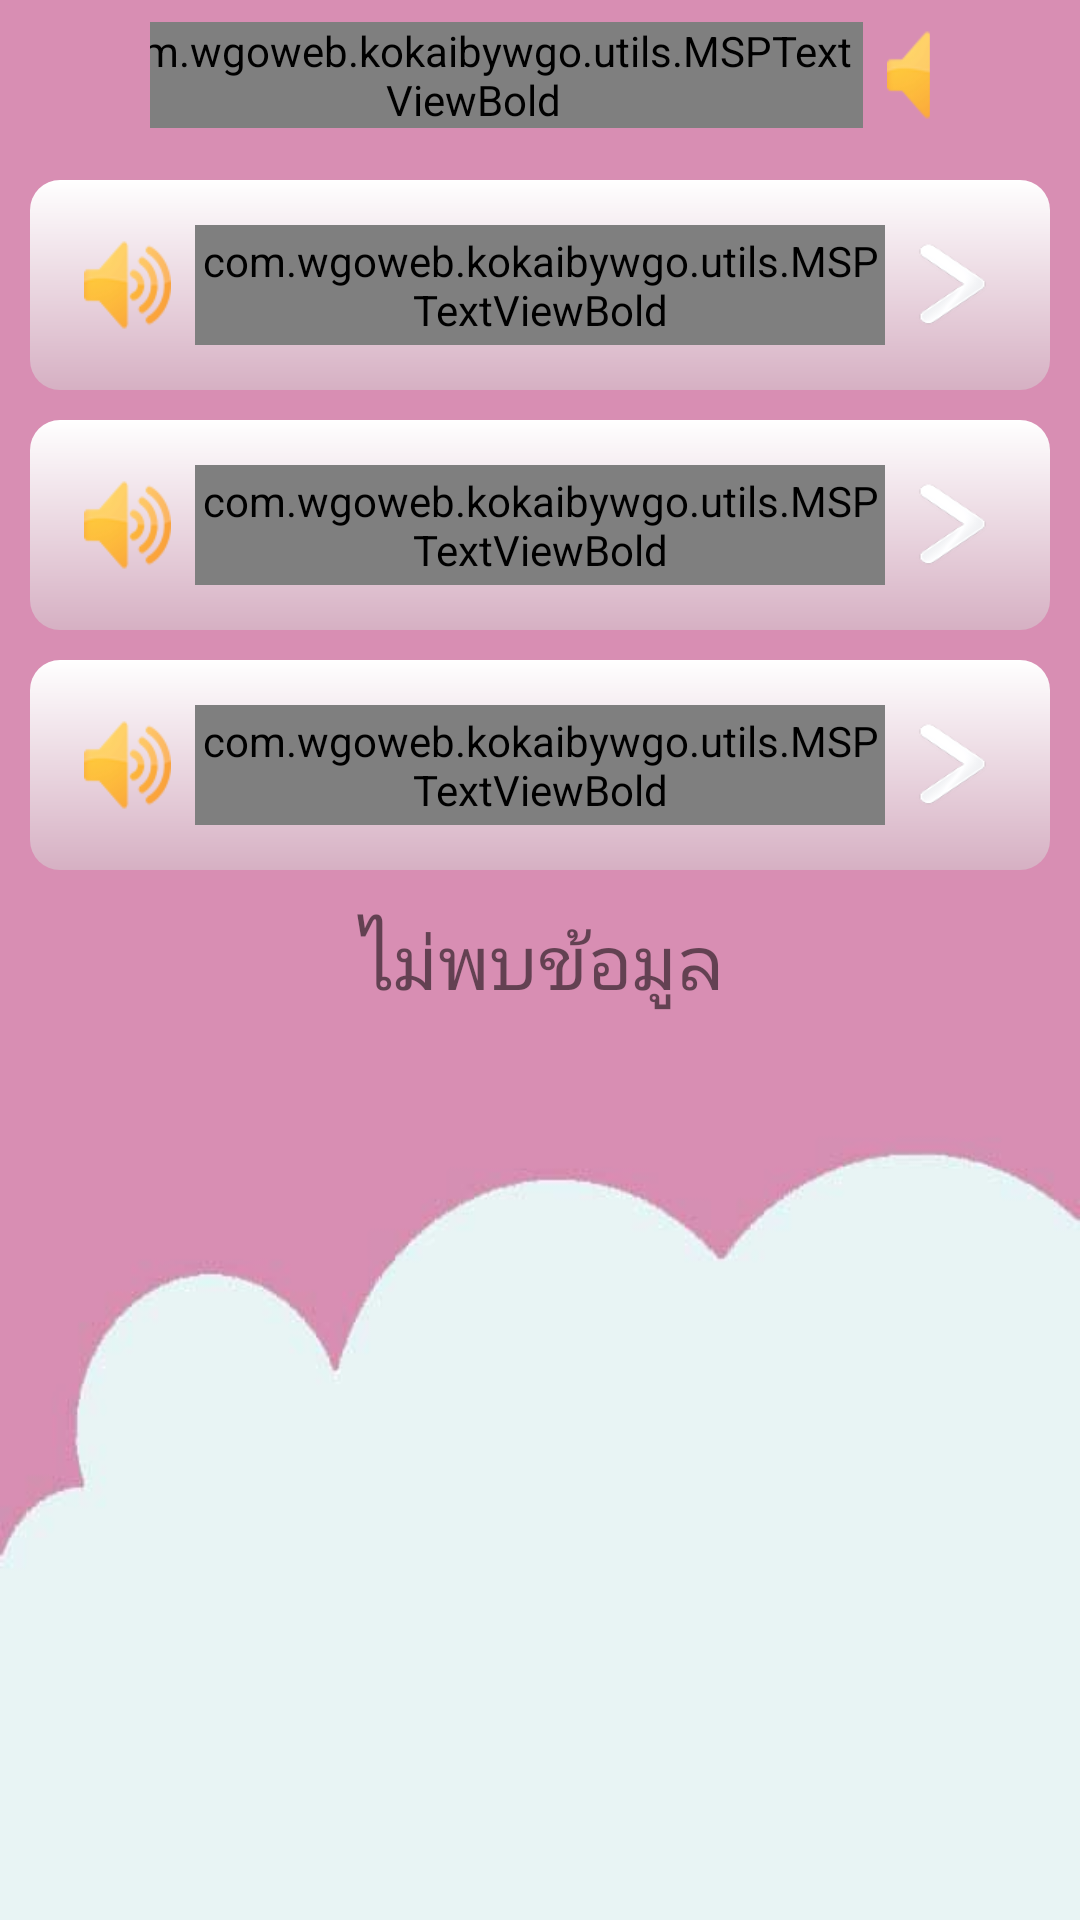

Named icons in this screenshot (1080 x 1920) and their centers, [x,y]:
go to next: [952,285], [952,525], [952,765]
sound on: [908,75], [127,285], [127,525], [127,765]
